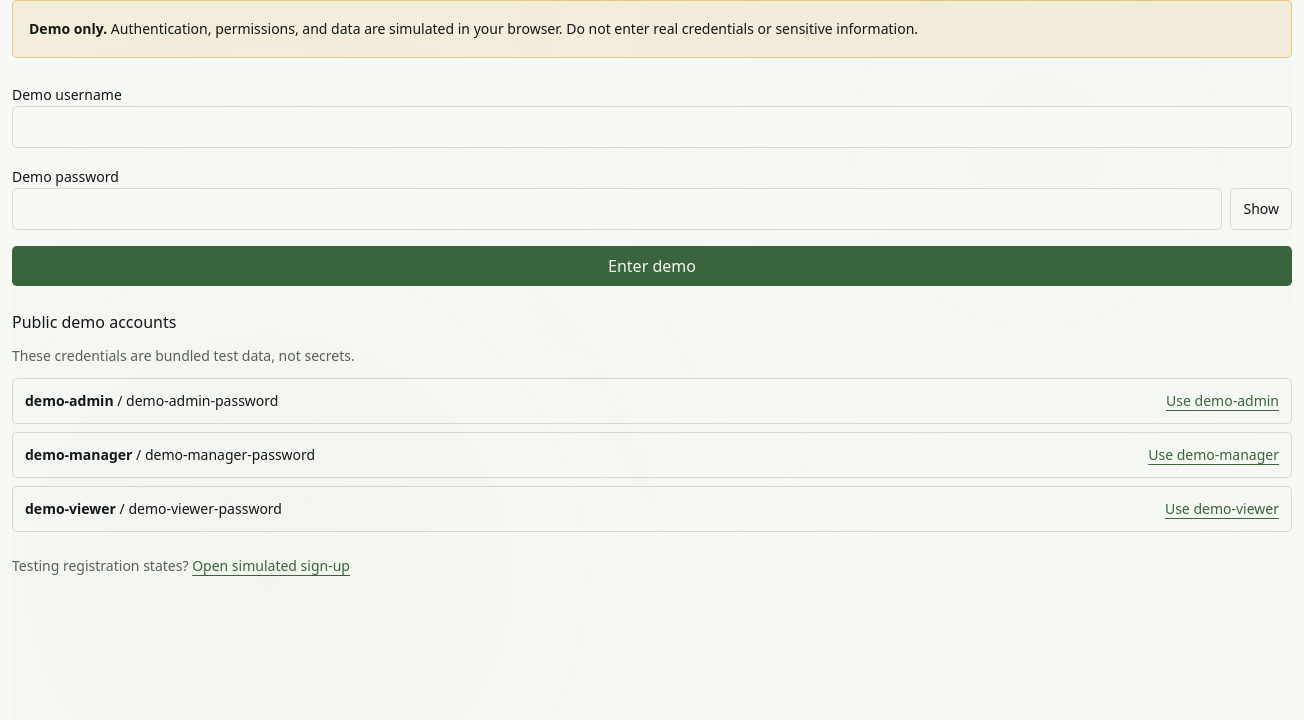
Test case: LoginForm › reports required fields and invalid credentials
Click the button "Enter demo" at (652, 266), box [12,246,1292,286]
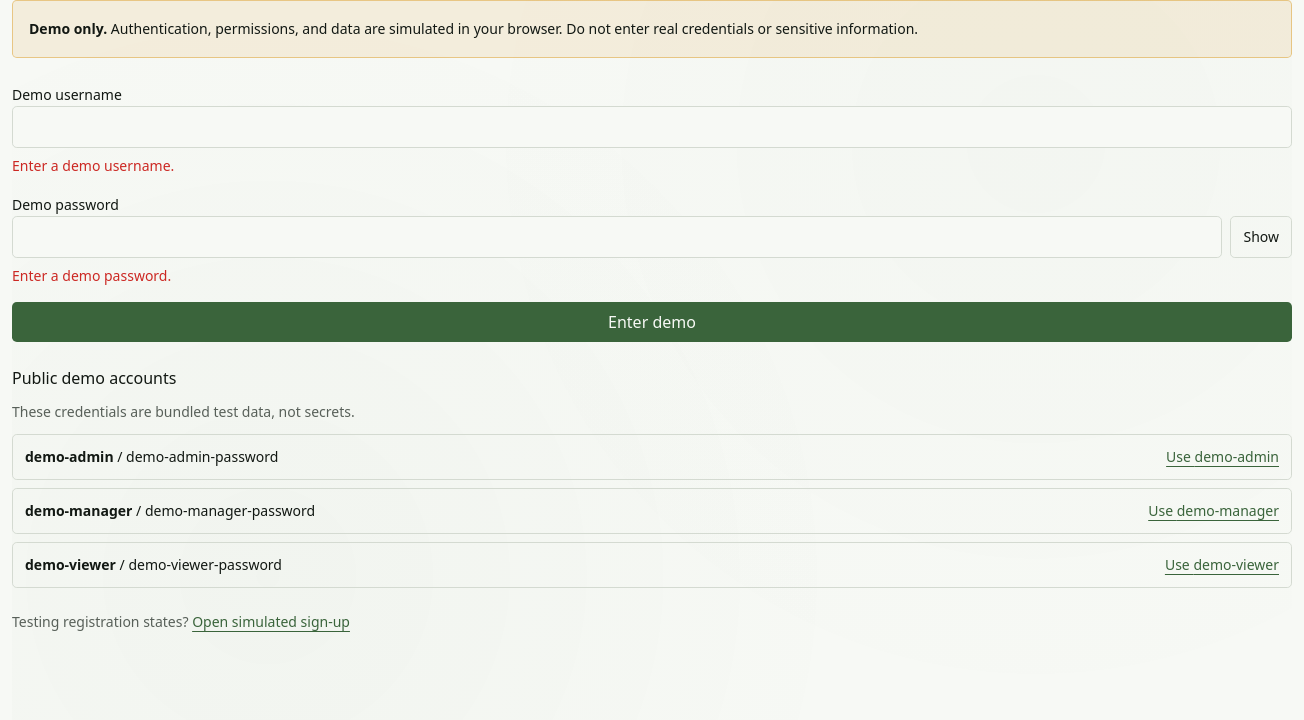
Now the text "Enter a demo username." is shown, box [12,156,174,175]
Now the text "Enter a demo password." is shown, box [12,266,171,285]
Type "demo-admin" into the field labelled "Demo username" at (652, 127), box [12,106,1292,148]
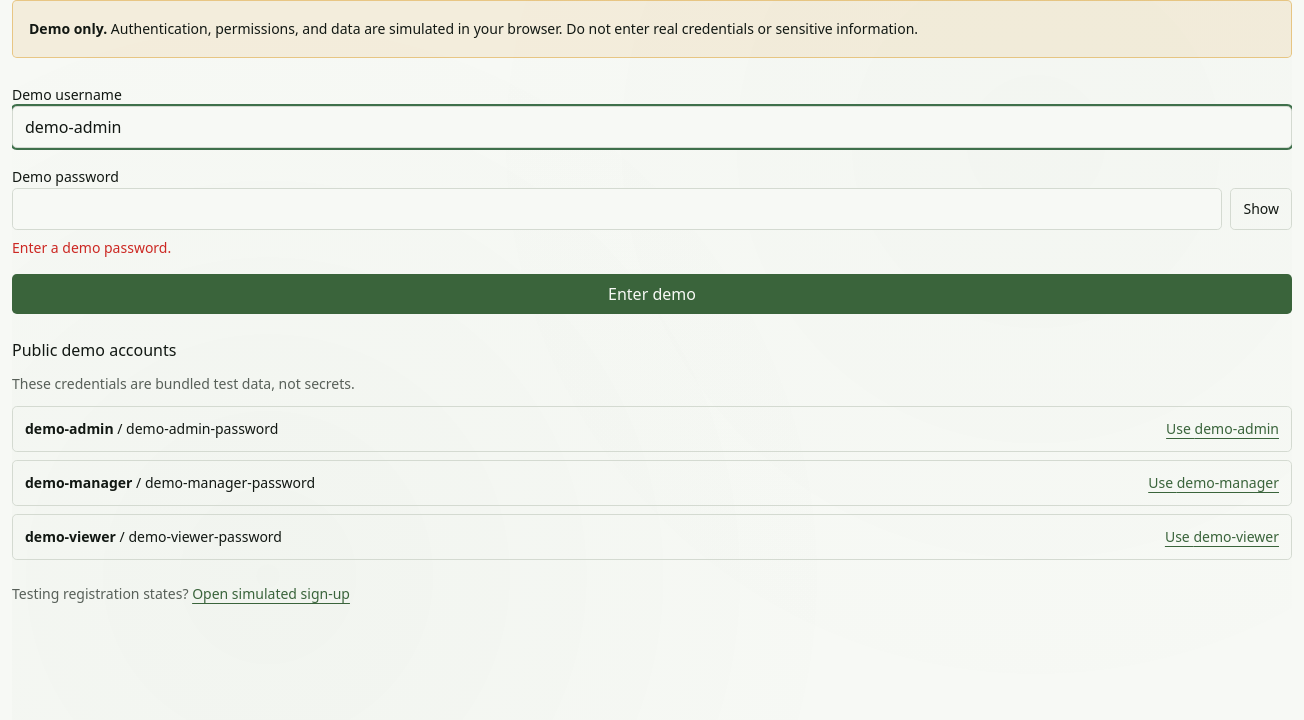
Type "wrong-password" into the password field labelled "Demo password" at (617, 209), box [12,188,1222,230]
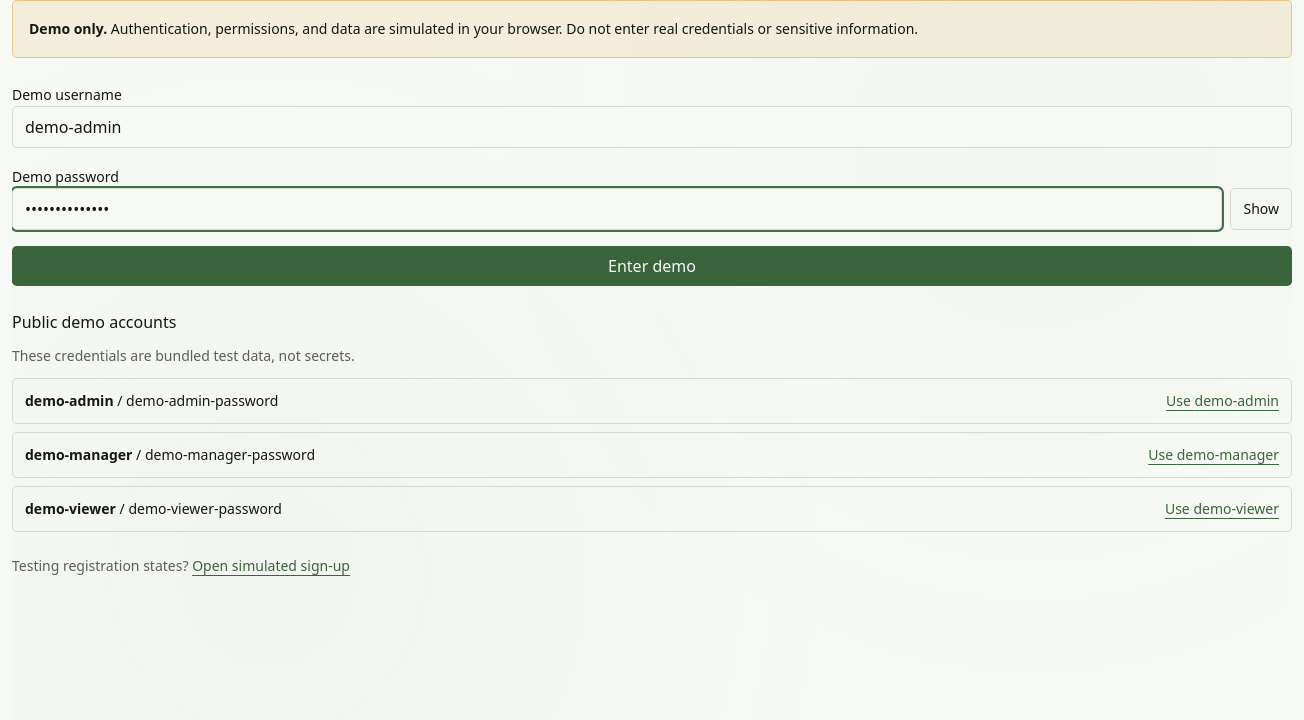
Click the button "Enter demo" at (652, 266), box [12,246,1292,286]
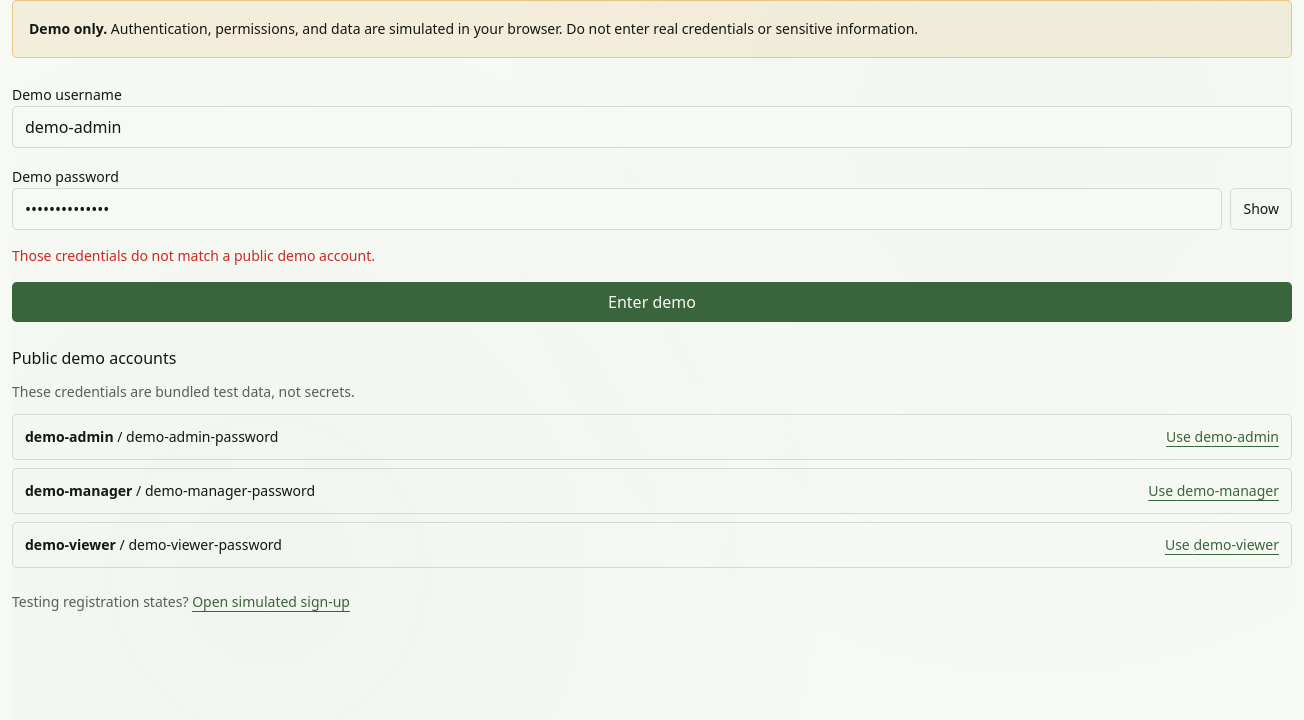
Now the text "Those credentials do not match a public demo account." is shown, box [12,246,375,265]
